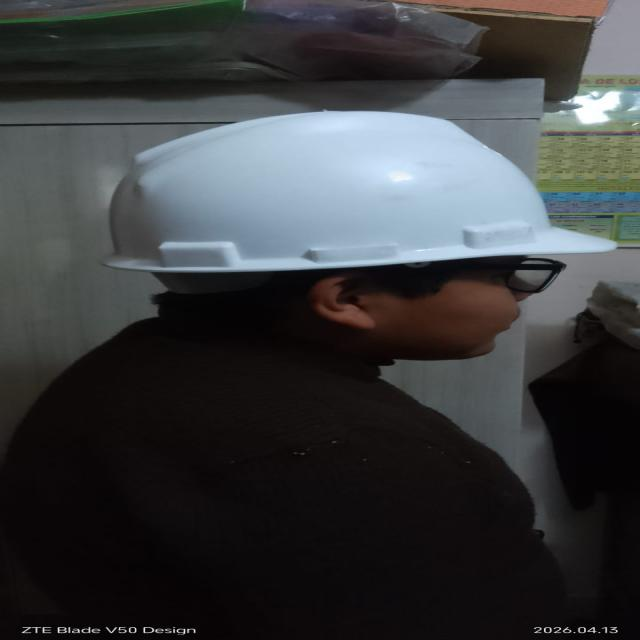casco: (77, 99, 638, 284)
